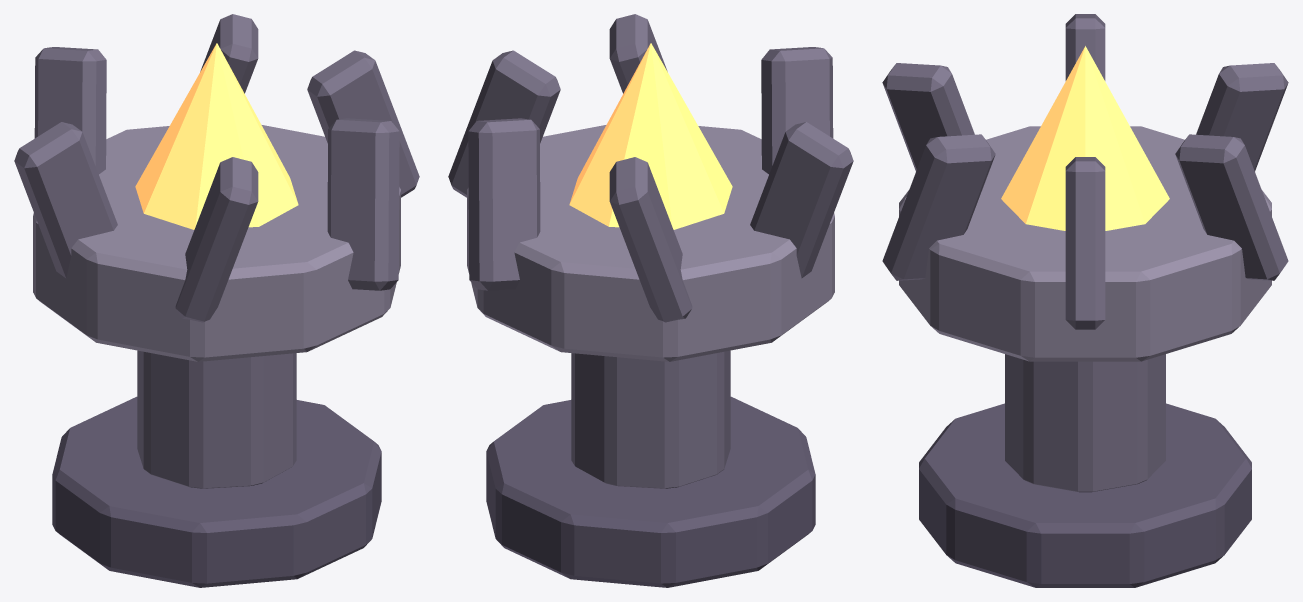
File: ember_plaza_brazier.glb
3 views of the same model, side by side, from view 1: azimuth 30°, elevation 25°; view 2: azimuth 150°, elevation 25°; view 3: azimuth 270°, elevation 25° (orthographic).
Parts seen in each view (by area): view 1: ember_plaza_brazier_Body, ember_plaza_brazier_Flame.001; view 2: ember_plaza_brazier_Body, ember_plaza_brazier_Flame.001; view 3: ember_plaza_brazier_Body, ember_plaza_brazier_Flame.001.
Boxes of the visible parts, <box> form: ember_plaza_brazier_Body: <box>14,14,419,587</box>; ember_plaza_brazier_Flame.001: <box>135,43,298,229</box>; ember_plaza_brazier_Body: <box>448,14,853,587</box>; ember_plaza_brazier_Flame.001: <box>569,43,732,229</box>; ember_plaza_brazier_Body: <box>882,14,1288,587</box>; ember_plaza_brazier_Flame.001: <box>1001,46,1169,230</box>.
Size of the model in its own units: 2.3 by 2.65 by 2.04.
